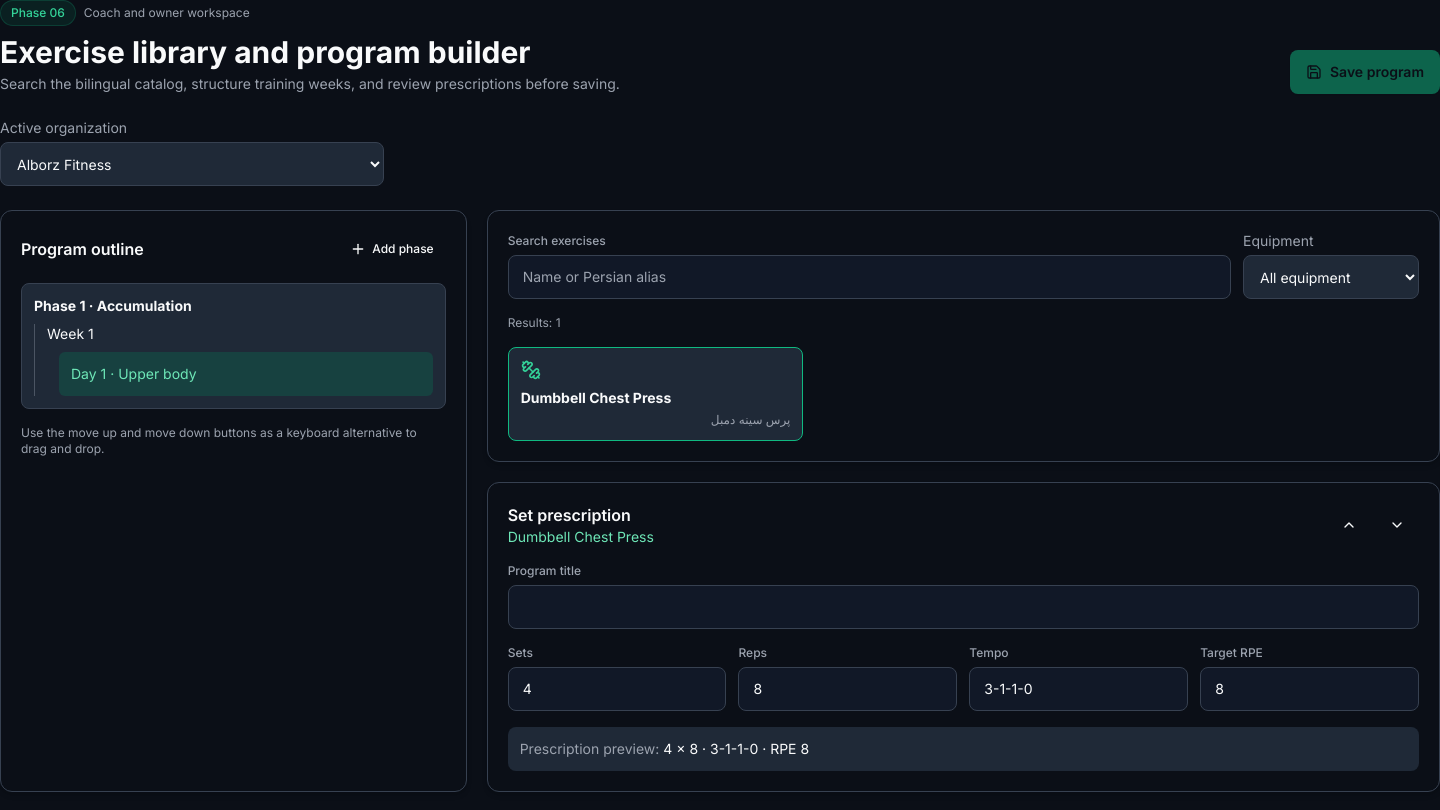
Test: Phase 06 integrated training workspace › persists the constructed program through createProgram and reports success
The image size is (1440, 810).
Expected: the button "Dumbbell Chest Press پرس سینه دمبل" is shown, x1=508 y1=347 x2=804 y2=441
Type "Strength Base" into the field labelled "Program title".
click(963, 607); type("Strength Base")  # box x1=508 y1=585 x2=1419 y2=629
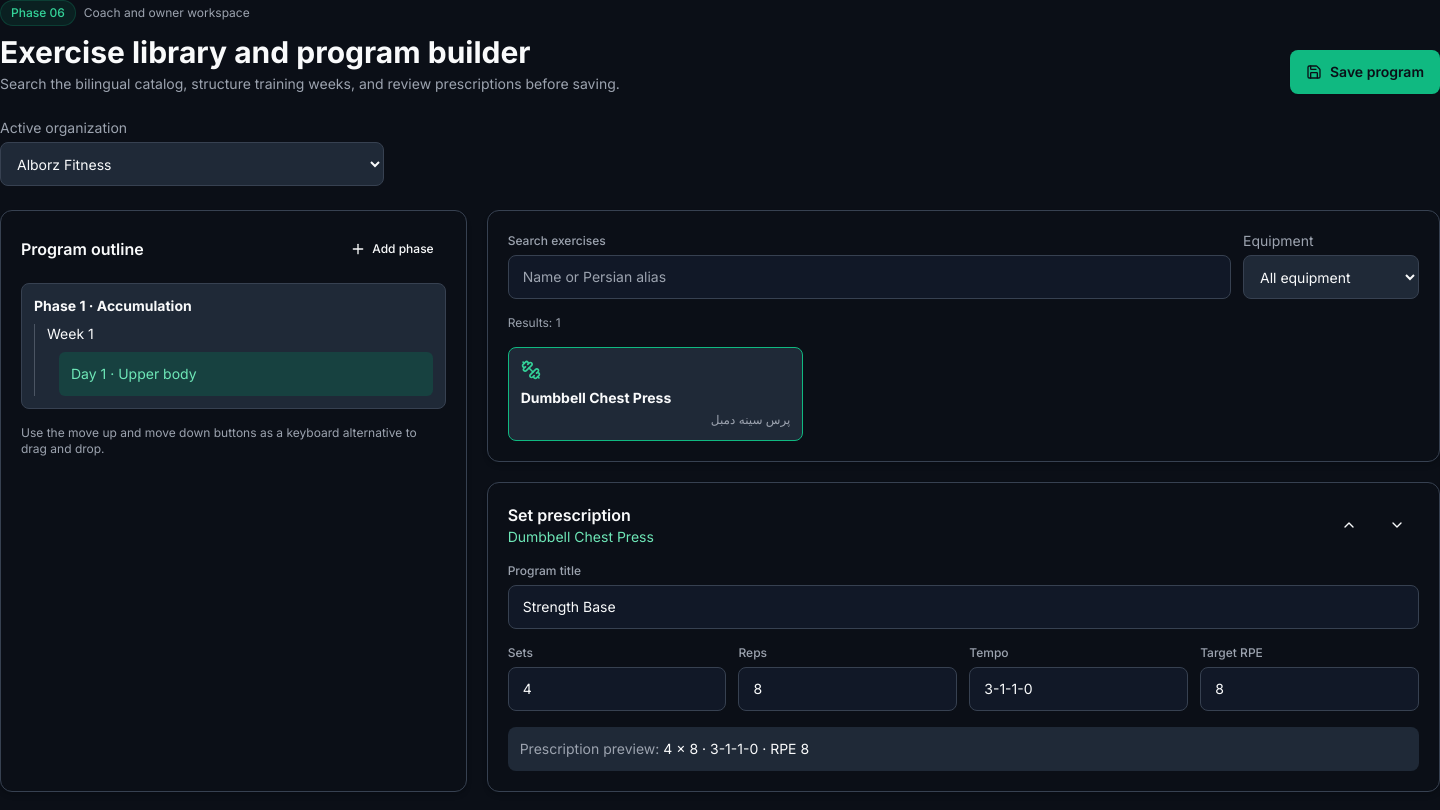
Replace the text in the number field labelled "Sets" with "3" at x=617, y=689, box x1=508 y1=667 x2=726 y2=711
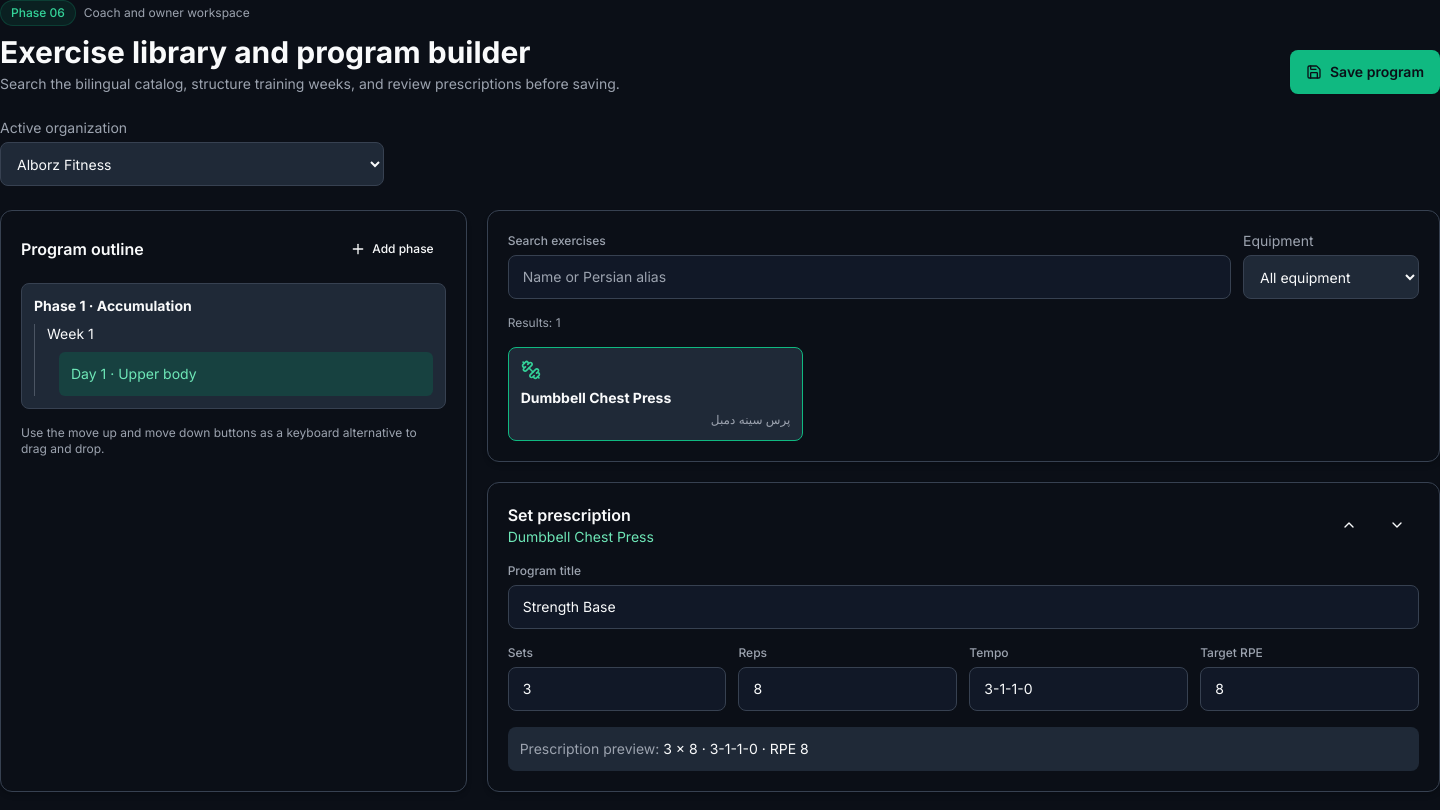
Click the button "Save program".
click(1365, 72)  # box x1=1290 y1=50 x2=1439 y2=94
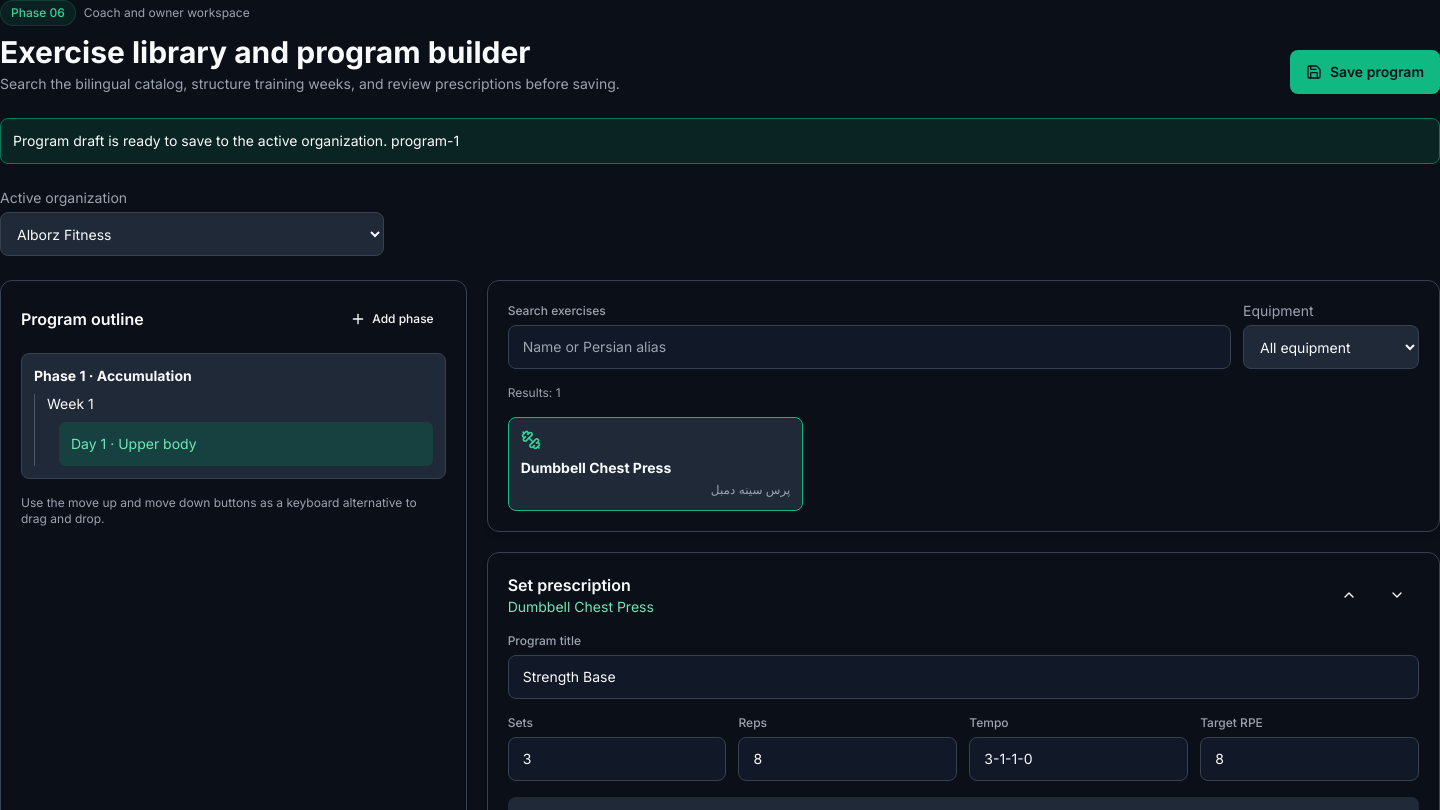
Expected: the message shows "program-1", x1=391 y1=132 x2=459 y2=149
